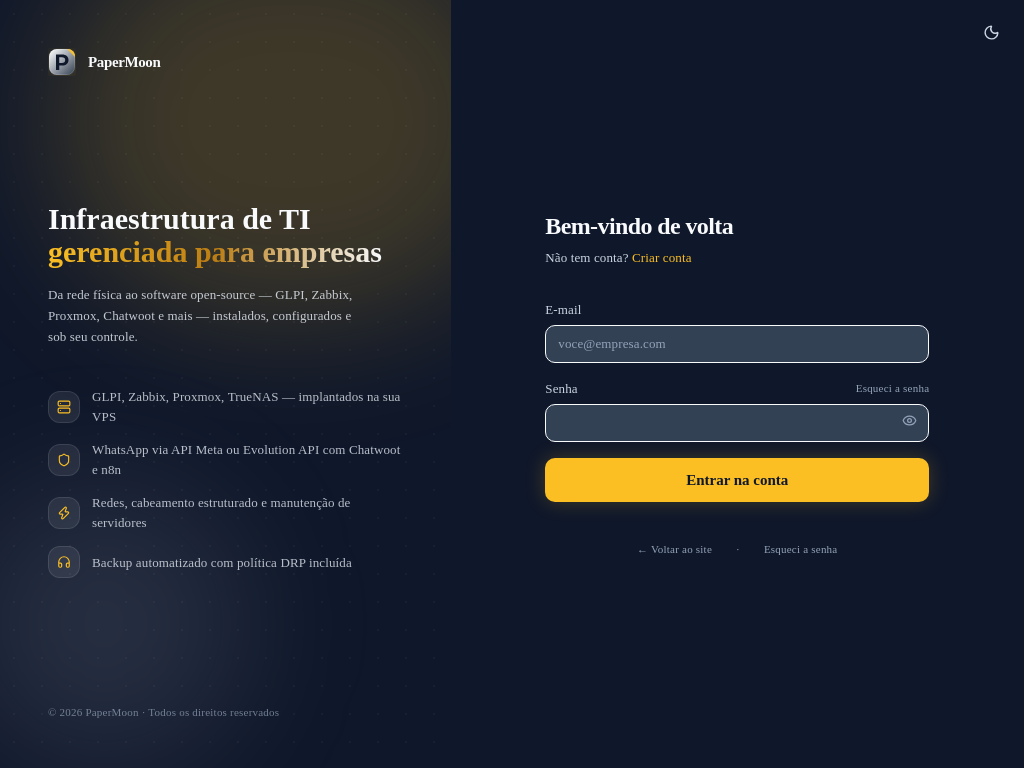
Scenario: LoginPage › disables submit button while loading
Type "owner@acme.com" into the field with placeholder "voce@empresa.com". click: (737, 344)
box: [545, 325, 929, 363]
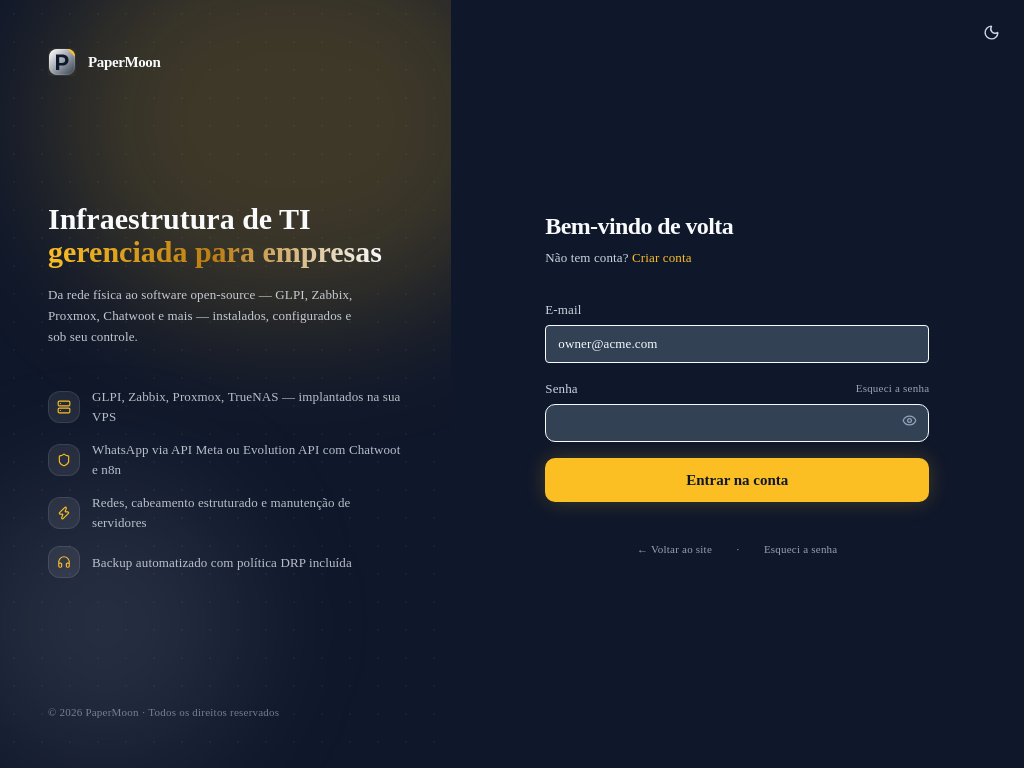
Type "demo123" into the password field labelled "Senha". click: (737, 423)
box: [545, 404, 929, 442]
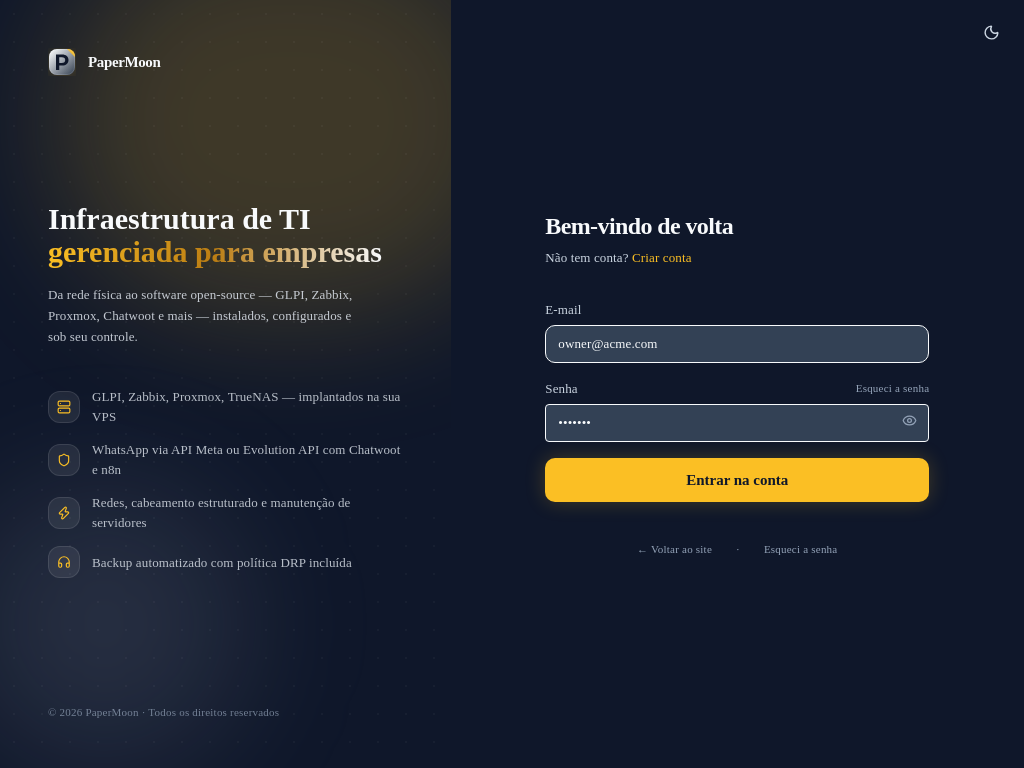
Click the button "Entrar na conta". click: (737, 480)
box: [545, 458, 929, 502]
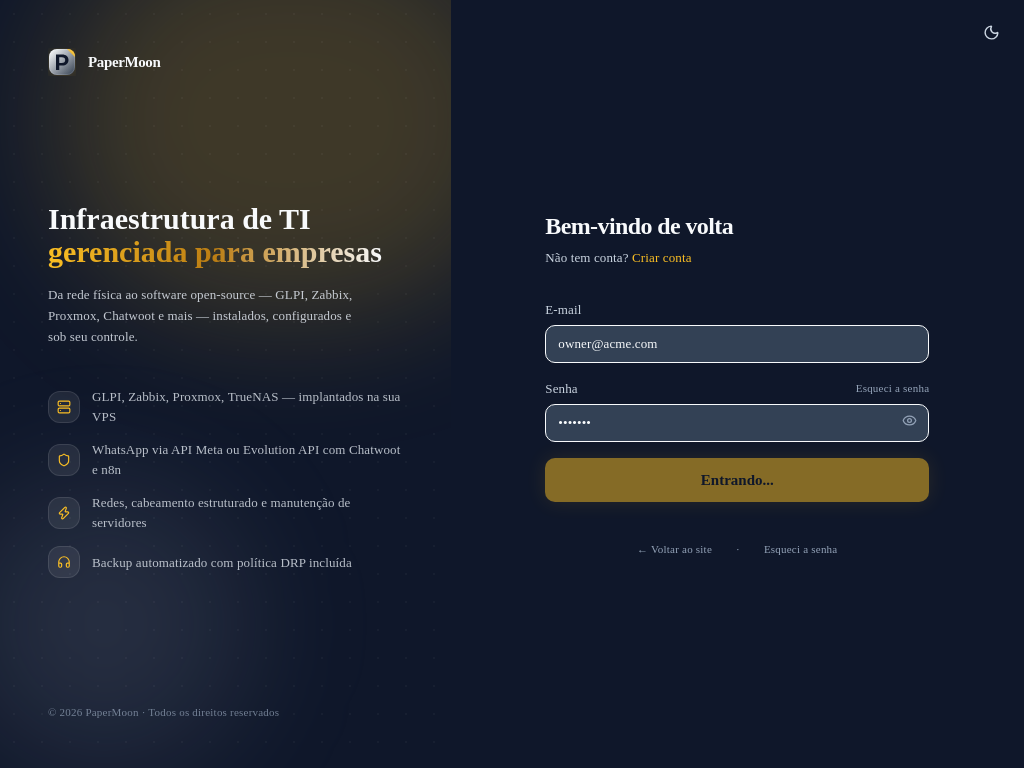
Expected: the button "Entrando..." is disabled, [545, 458, 929, 502]
